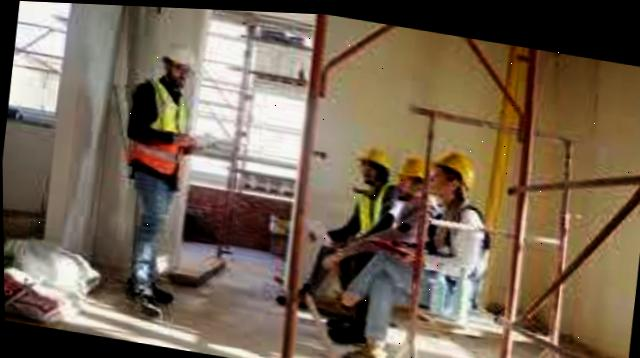helmet: (153, 33, 215, 83), (432, 140, 481, 188), (388, 142, 430, 183), (354, 134, 390, 170)
vest: (118, 64, 204, 196), (331, 164, 401, 258)
